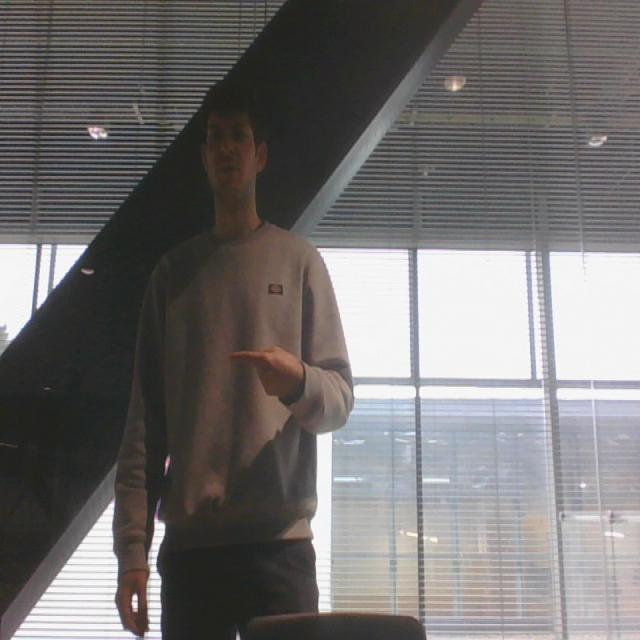left: (228, 341, 310, 403)
